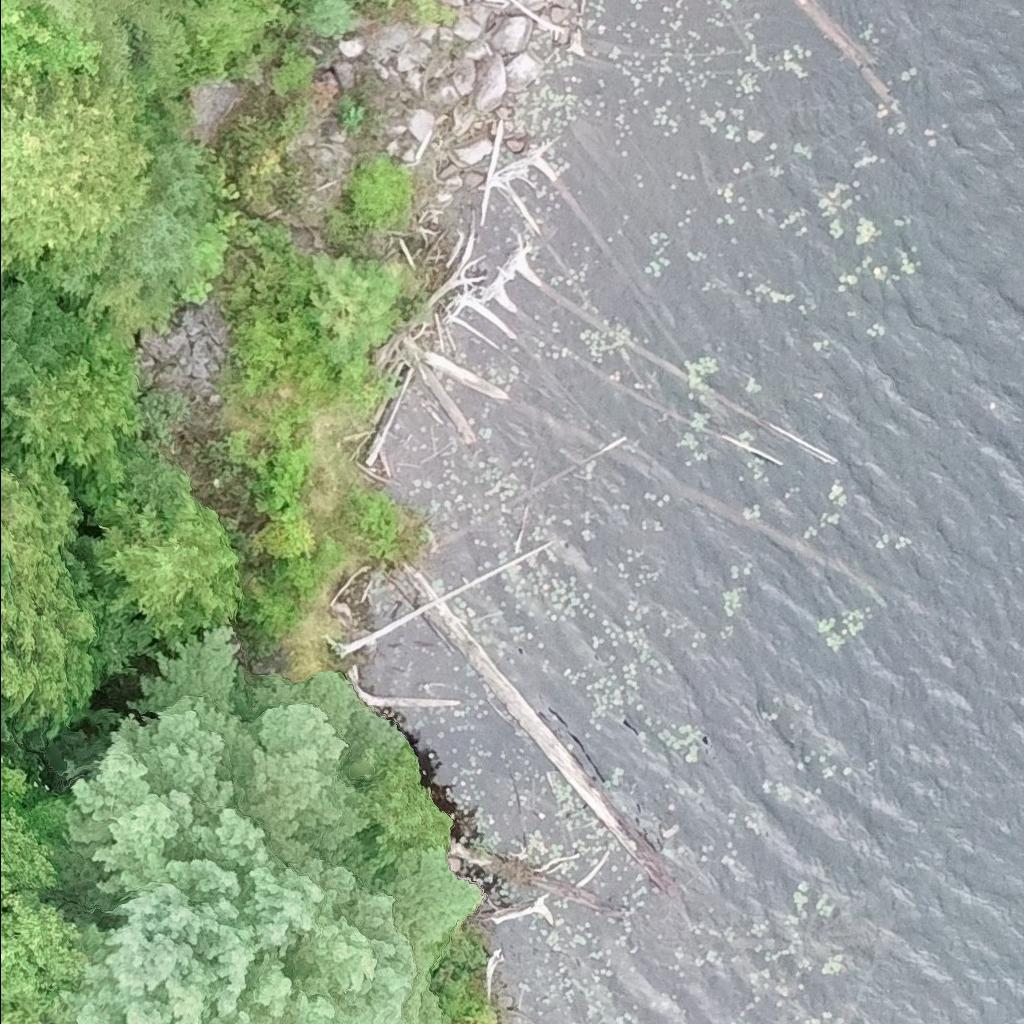crown: (32, 623, 480, 1023), (0, 68, 157, 273), (89, 462, 241, 643), (6, 329, 141, 493), (0, 549, 106, 727), (0, 276, 77, 440), (20, 0, 173, 79), (0, 753, 66, 911), (0, 0, 104, 80), (0, 698, 70, 761)
